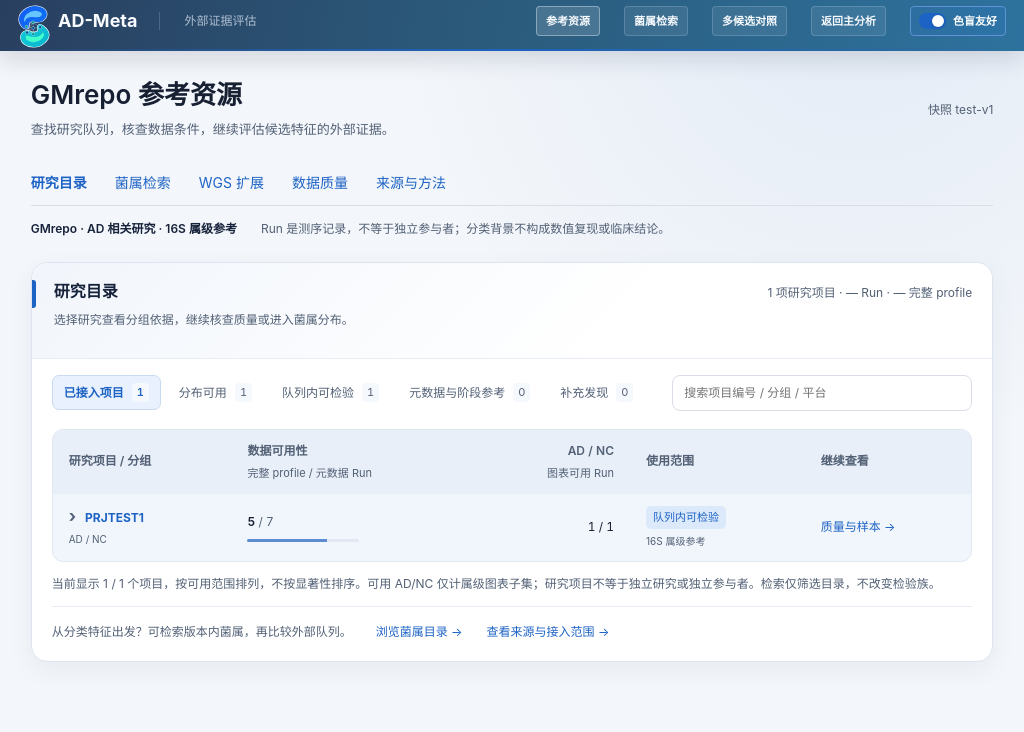
Test case: the default resource view is a searchable study directory, with quality and methods separate
The image size is (1024, 732).
Expected: the heading "研究目录" is shown, [54,281,118,301]
Expected: the text "当前元数据" is not shown
Type "missing" into the search field named "检索研究项目" at (822, 393), box [672,375,972,411]
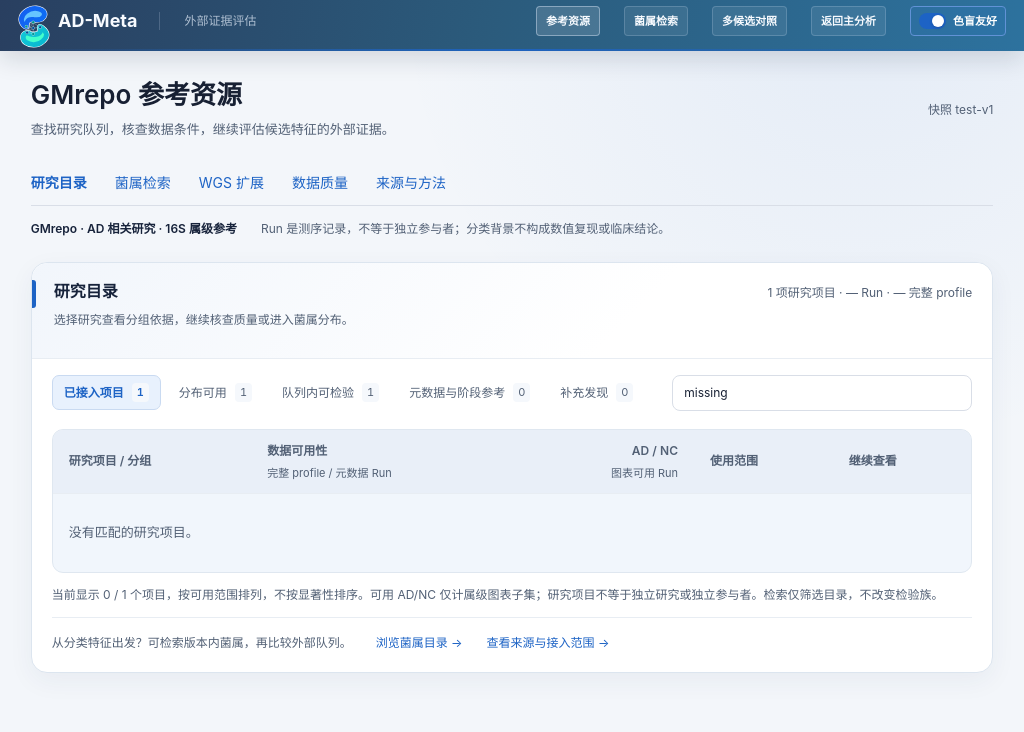
Result: the text "没有匹配的研究项目。" is shown at [69,524,199,540]
Click the link "来源与方法" at (411, 183), box [376,174,446,191]
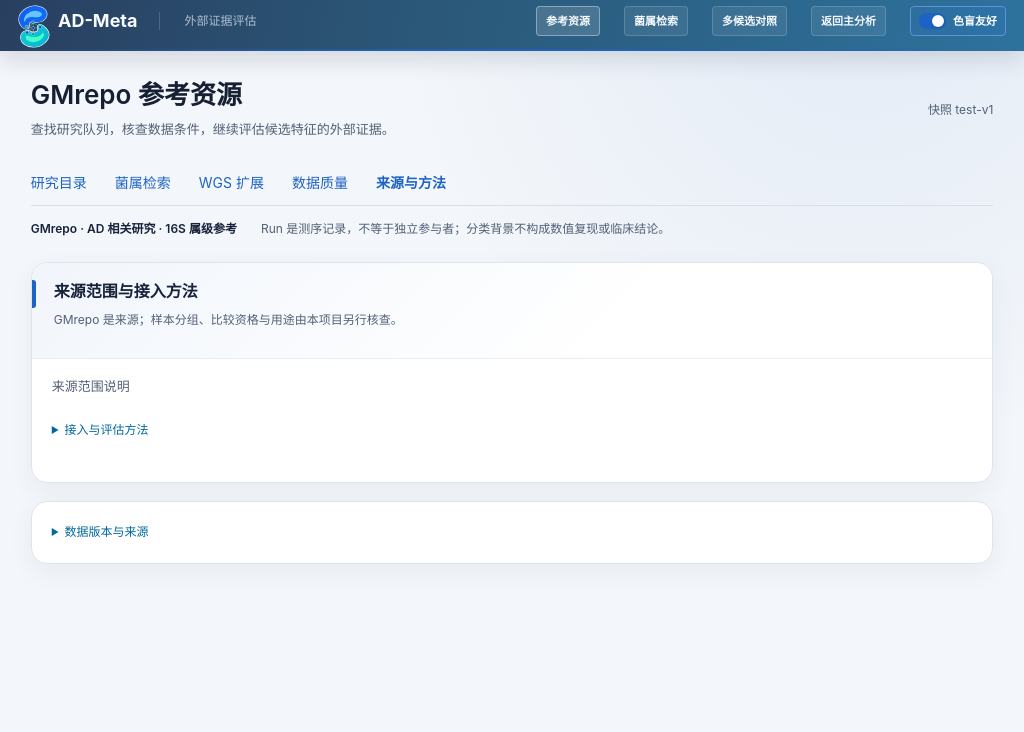
Expected: the search field labelled "检索研究项目" is not shown
Result: the heading "来源范围与接入方法" is shown at [54,281,198,301]
Click the link "数据质量" at (320, 183), box [292,174,348,191]
(page scrolled)
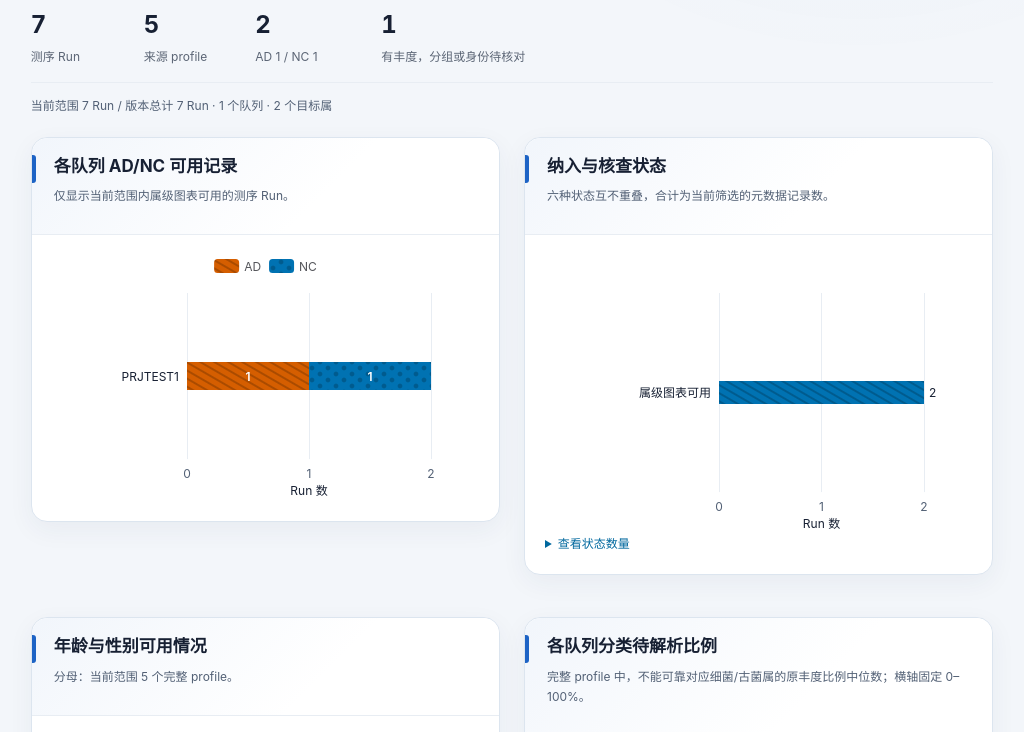
Result: the picture named "各队列 AD/NC 可用记录" is shown at [52,251,479,501]
